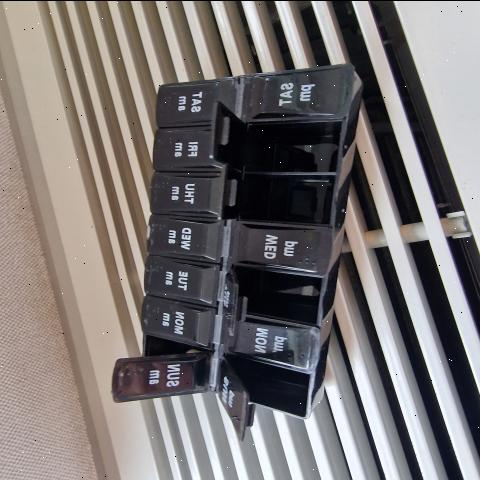Open: (213, 104, 344, 172), (219, 167, 336, 224), (231, 266, 322, 336), (223, 355, 311, 419), (116, 336, 206, 360)
